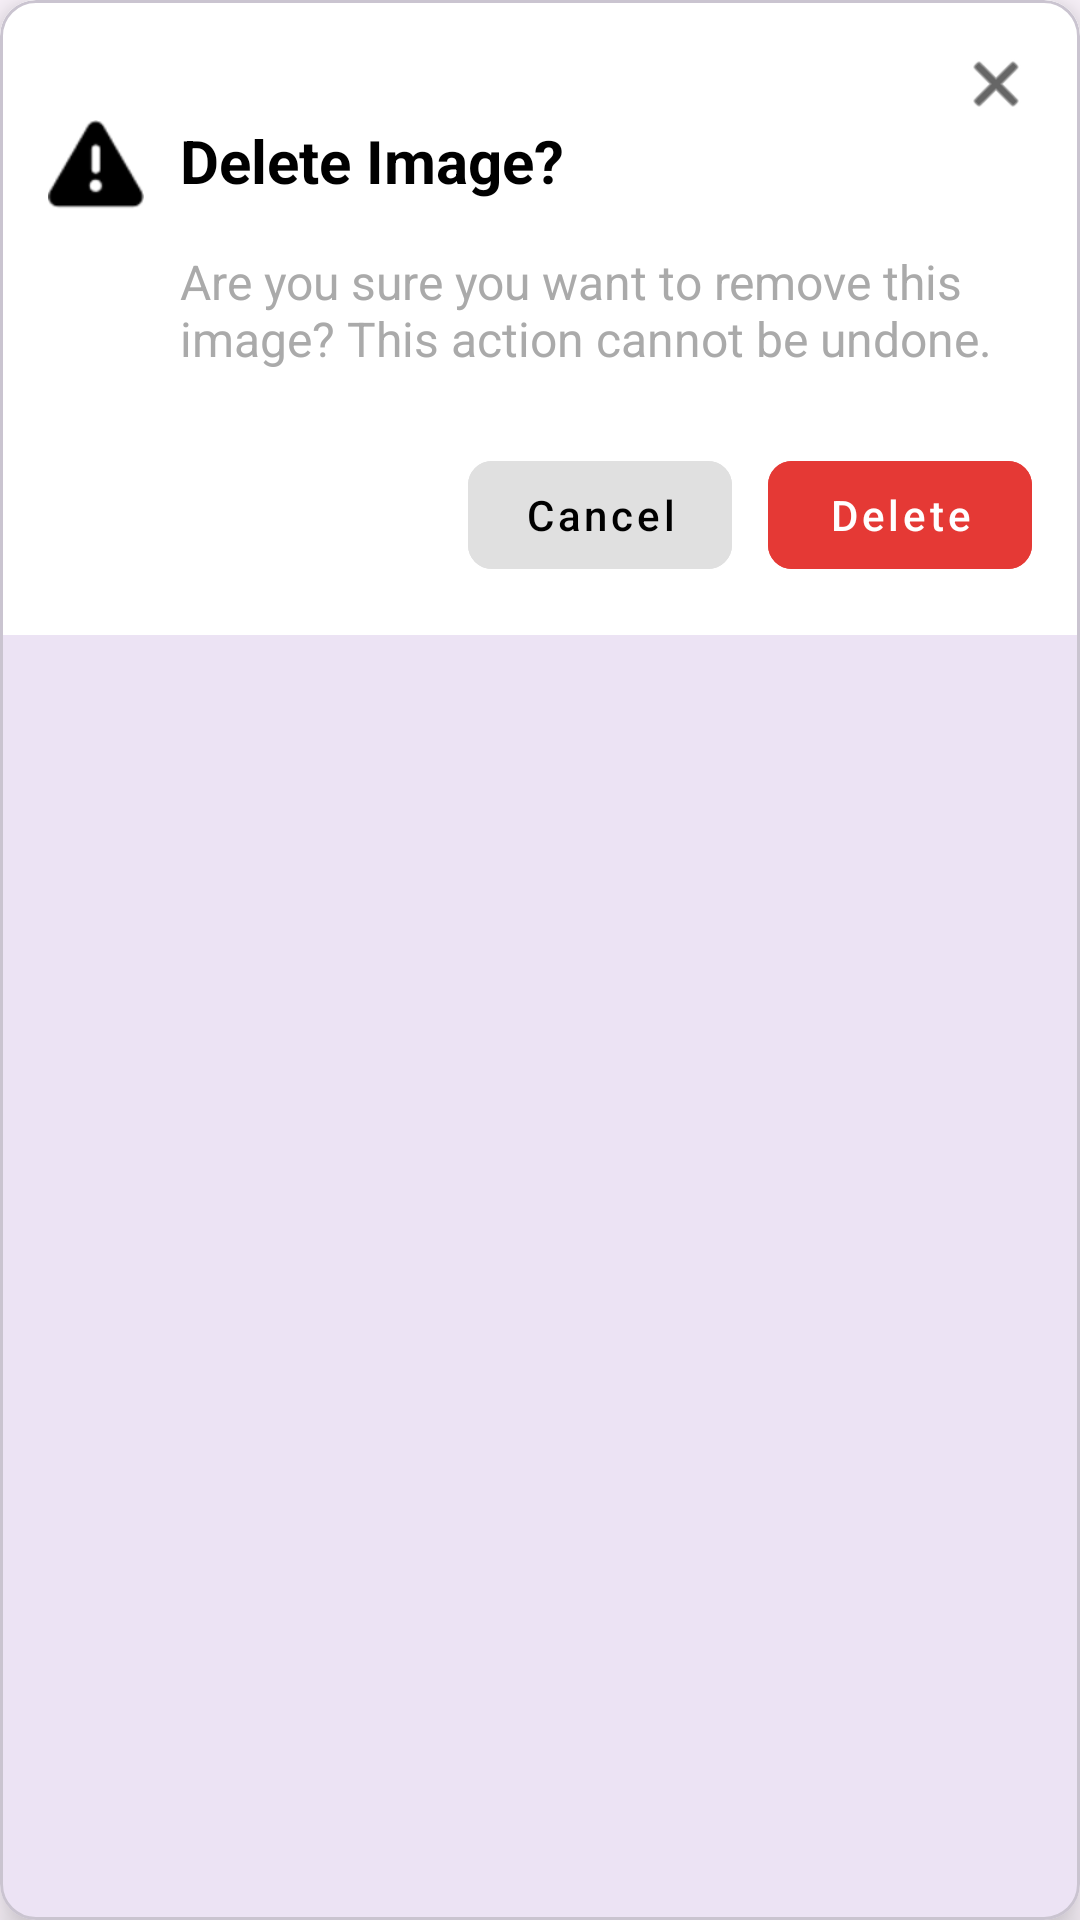

Where icons sit on this 1080px x 1920px app screen, as (x1, y1, x2, y2):
Alert icon: (48, 120, 144, 208)
Close dialog: (973, 61, 1019, 107)
